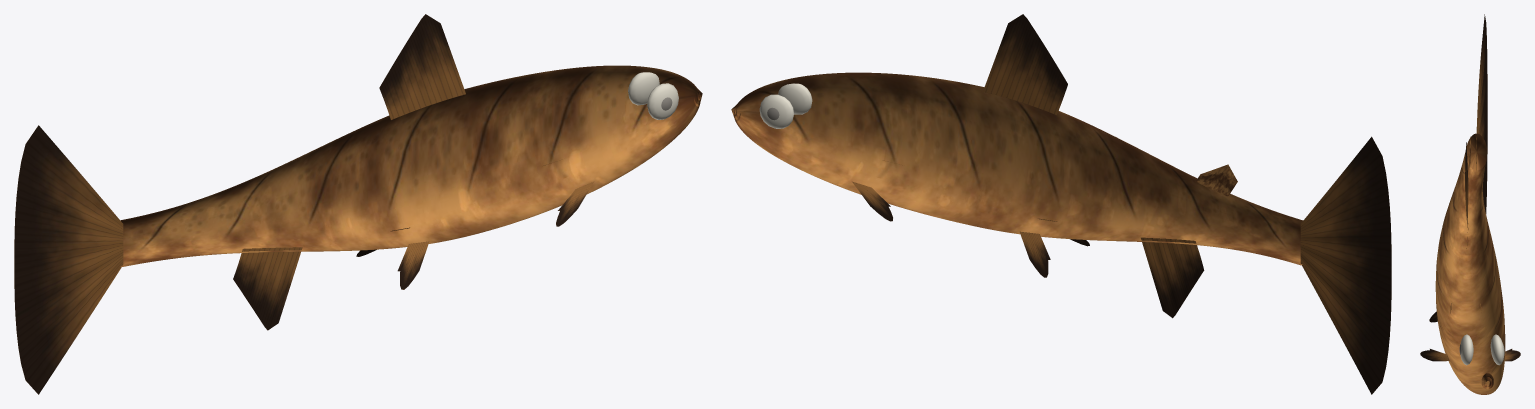
The model's file is fish_brown_trout_cooked.gltf.
3 views of the same model, side by side, from view 1: azimuth 30°, elevation 25°; view 2: azimuth 150°, elevation 25°; view 3: azimuth 270°, elevation 25° (orthographic). The views are drawn at different scales.
Visible parts, largest first — view 1: fish_brown_trout_cooked; view 2: fish_brown_trout_cooked; view 3: fish_brown_trout_cooked.
Boxes of the visible parts, x1,y1,x2,y2 form: fish_brown_trout_cooked: (14, 14, 702, 394); fish_brown_trout_cooked: (731, 14, 1391, 394); fish_brown_trout_cooked: (1420, 14, 1520, 394).
Size of the model in its own units: 0.4195 by 0.1733 by 0.0659.
Materials: 6 (4 with a texture image).
